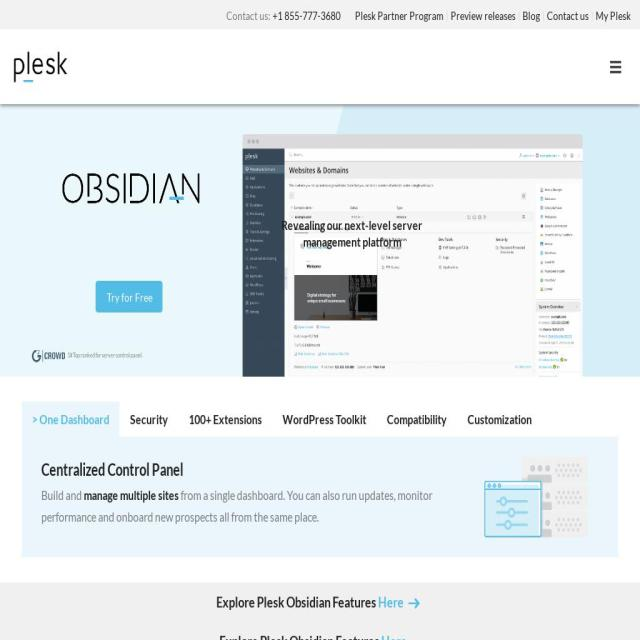button: (273, 402, 377, 436), (22, 402, 119, 436), (179, 402, 272, 436), (457, 402, 542, 436), (377, 402, 457, 436), (120, 402, 178, 436), (352, 12, 447, 21), (448, 12, 520, 21), (544, 12, 592, 21), (592, 12, 634, 21), (519, 12, 544, 21)
heading: (41, 458, 455, 480), (216, 592, 378, 610), (218, 631, 381, 640), (405, 591, 424, 617), (378, 592, 403, 610), (381, 631, 407, 640), (408, 634, 421, 640)
image: (0, 105, 640, 377), (239, 131, 586, 377), (473, 450, 599, 545), (61, 169, 201, 208), (12, 30, 68, 105), (96, 281, 163, 312), (32, 349, 99, 377), (610, 60, 621, 63), (610, 65, 621, 68), (610, 70, 621, 73)
link: (272, 8, 340, 22)
text: (41, 487, 432, 524), (67, 348, 640, 364), (281, 216, 423, 232), (96, 281, 163, 312), (303, 233, 402, 249), (84, 487, 178, 502), (355, 8, 444, 22), (450, 8, 516, 22), (41, 487, 84, 502), (226, 8, 272, 22), (547, 8, 589, 22), (596, 8, 630, 22), (522, 8, 540, 22)
